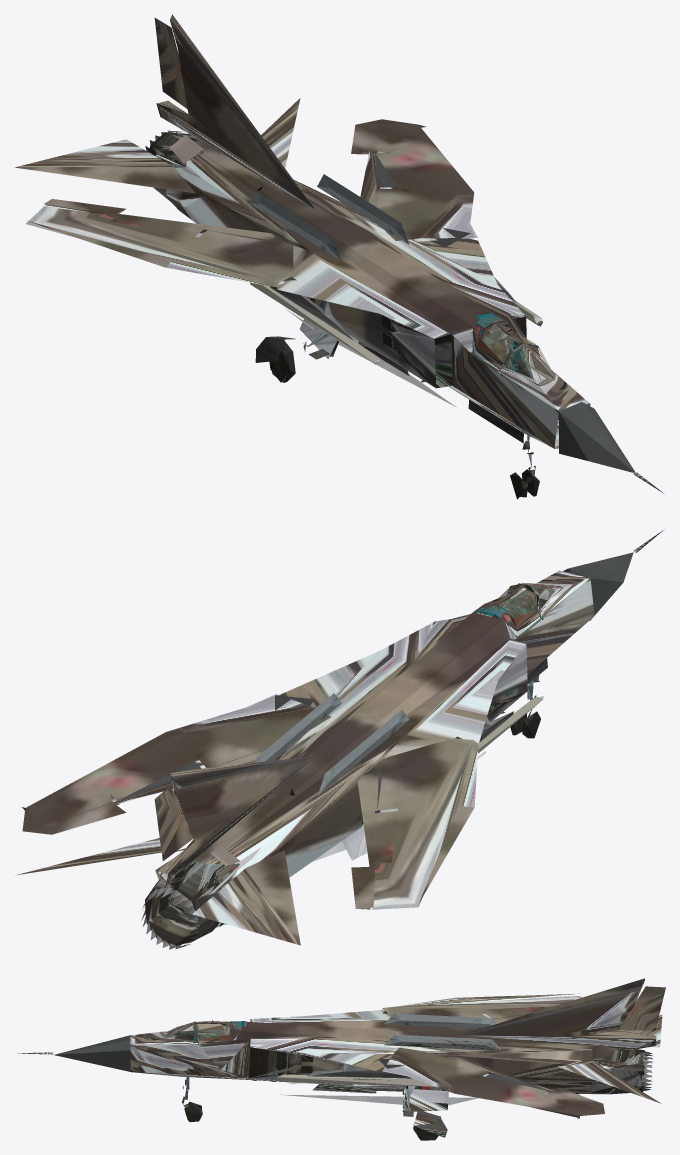
The picture shows the model from 3 angles, top to bottom: view 1: azimuth 30°, elevation 25°; view 2: azimuth 150°, elevation 25°; view 3: azimuth 270°, elevation 25°; orthographic projection. The views are drawn at different scales.
Parts seen in each view (by area): view 1: OBJ0050_fuzcamo_0, OBJ0040_nab_0, stab2_00Bnosser.paa_0, r24_r24_0, OBJ0377_glass_0; view 2: OBJ0050_fuzcamo_0, OBJ0040_nab_0, stab2_00Bnosser.paa_0, OBJ0377_glass_0, r24_r24_0; view 3: OBJ0050_fuzcamo_0, OBJ0040_nab_0, stab2_00Bnosser.paa_0, r24_r24_0, OBJ0377_glass_0.
Boxes of the visible parts, <box> form: OBJ0050_fuzcamo_0: <box>14,14,590,448</box>; OBJ0040_nab_0: <box>145,30,663,499</box>; stab2_00Bnosser.paa_0: <box>50,151,634,472</box>; r24_r24_0: <box>250,282,542,364</box>; OBJ0377_glass_0: <box>478,323,551,378</box>; OBJ0050_fuzcamo_0: <box>16,570,594,945</box>; OBJ0040_nab_0: <box>141,529,664,949</box>; stab2_00Bnosser.paa_0: <box>55,552,633,891</box>; OBJ0377_glass_0: <box>498,584,554,626</box>; r24_r24_0: <box>477,696,543,758</box>; OBJ0050_fuzcamo_0: <box>130,978,665,1125</box>; OBJ0040_nab_0: <box>17,1002,652,1140</box>; stab2_00Bnosser.paa_0: <box>54,1014,552,1092</box>; r24_r24_0: <box>276,1074,435,1086</box>; OBJ0377_glass_0: <box>168,1021,229,1040</box>.
Size of the model in its own units: 1.94 by 1.05 by 4.3.
Materials: 34 (27 with a texture image).
